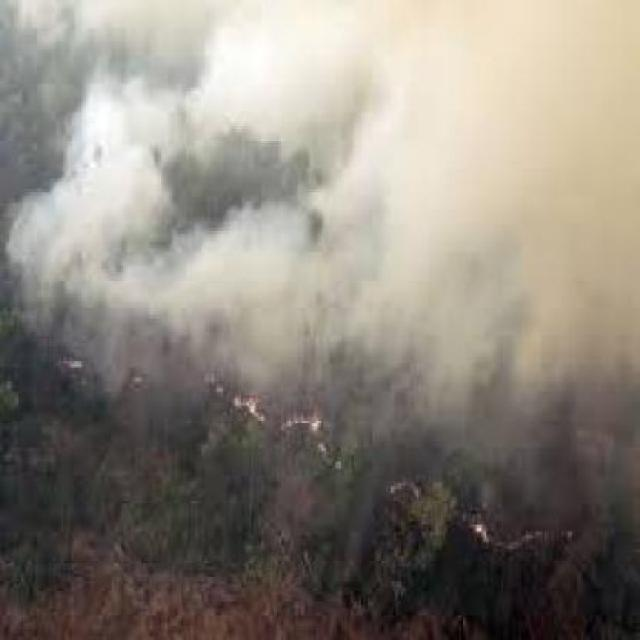Fire: (214, 370, 338, 464)
Smoke: (6, 1, 639, 370), (353, 0, 640, 497)
